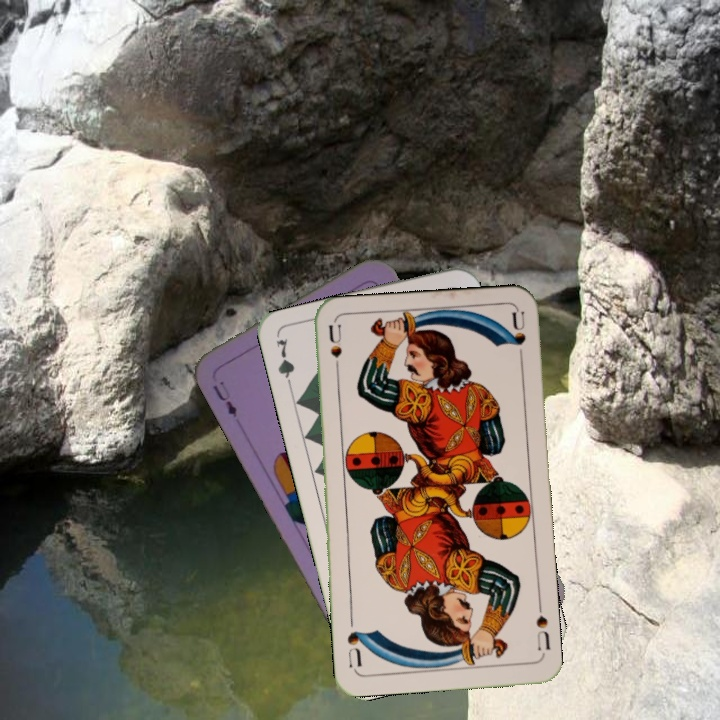EU: (208, 380, 240, 420)
G7: (272, 334, 297, 394)
SU: (324, 321, 344, 381), (532, 599, 553, 653)
